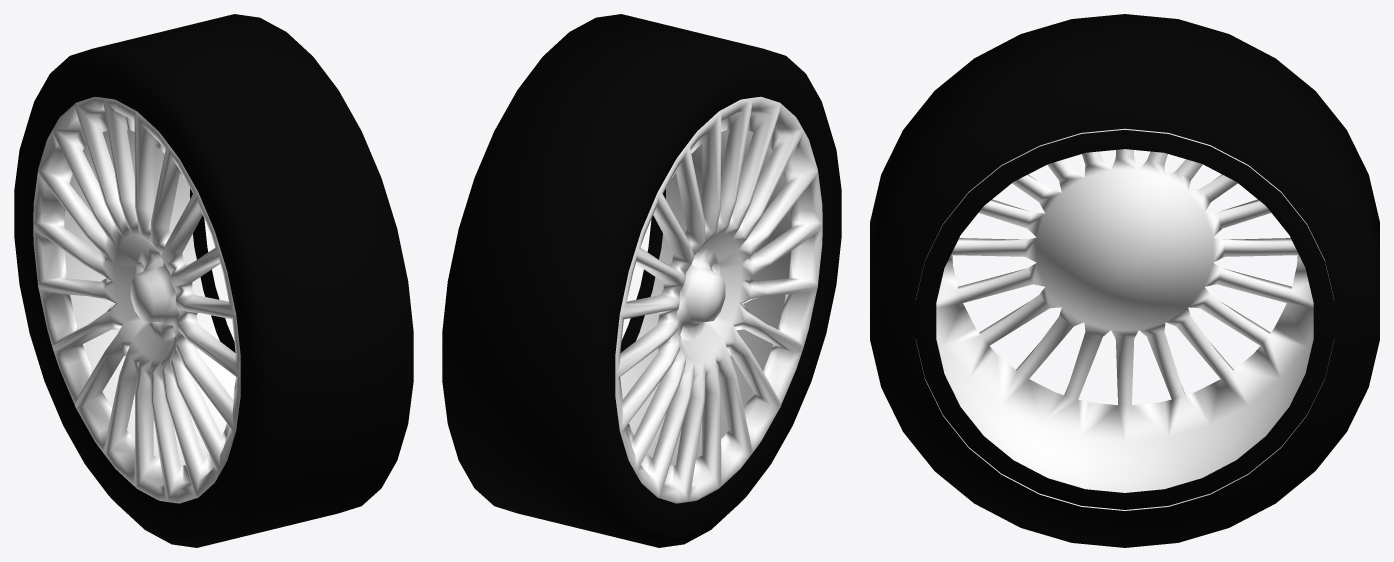
The model's file is mazdarx8wheelhigh.obj.
The picture shows the model from 3 angles, left to right: view 1: azimuth 30°, elevation 25°; view 2: azimuth 150°, elevation 25°; view 3: azimuth 270°, elevation 25°; orthographic projection.
Visible parts, largest first — view 1: mazdarx8wheelhigh_Wheel; view 2: mazdarx8wheelhigh_Wheel; view 3: mazdarx8wheelhigh_Wheel.
Boxes of the visible parts, bbox=[...] form: mazdarx8wheelhigh_Wheel: bbox=[14, 14, 413, 547]; mazdarx8wheelhigh_Wheel: bbox=[442, 14, 841, 547]; mazdarx8wheelhigh_Wheel: bbox=[870, 14, 1379, 547].
Bounding box in the file's own units: 0.2737 × 0.7396 × 0.7356.
